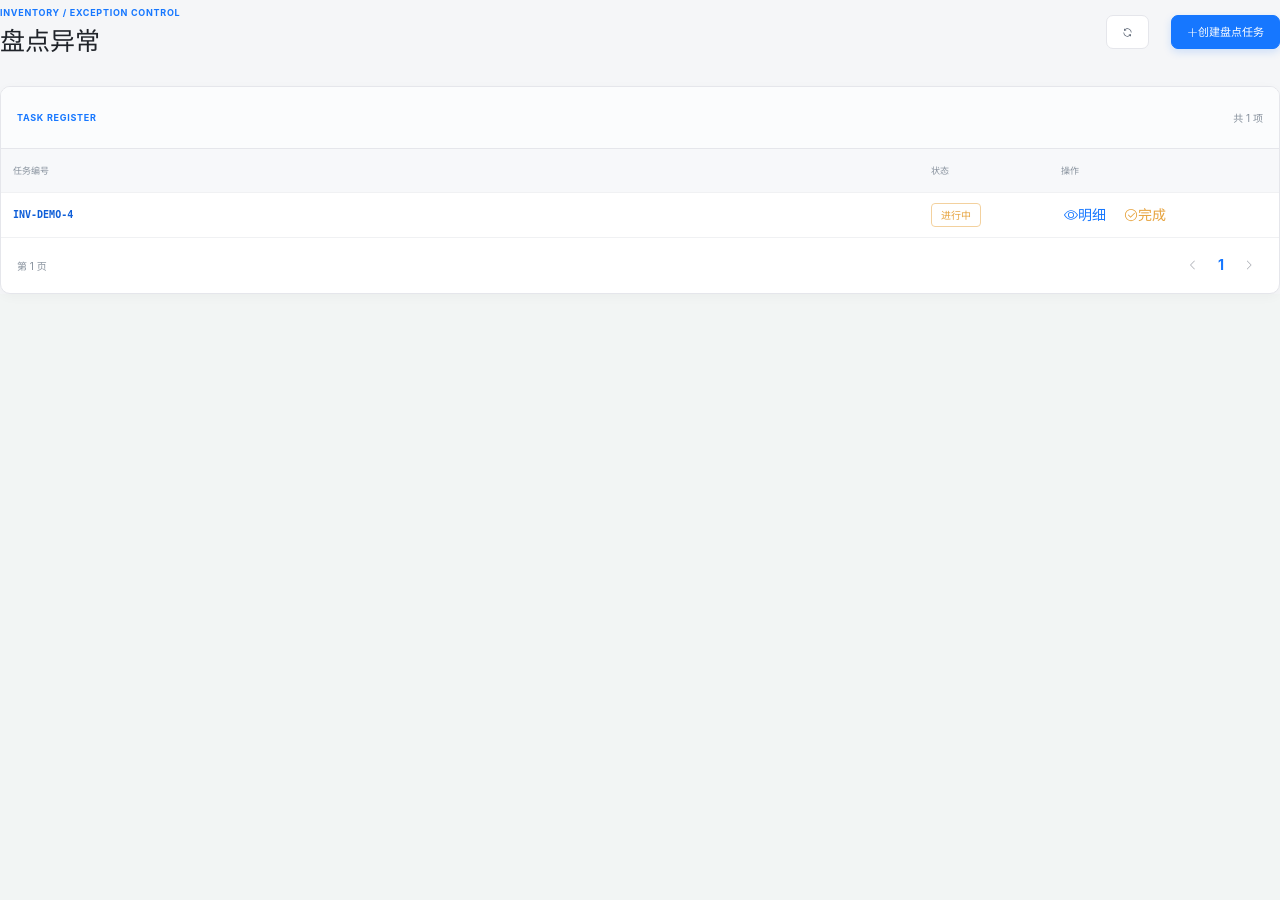
Scenario: InventoryView › opens the item check form from a selected task
Click the button titled "查看盘点明细" at point(1085, 215), box [1061,205,1109,225]
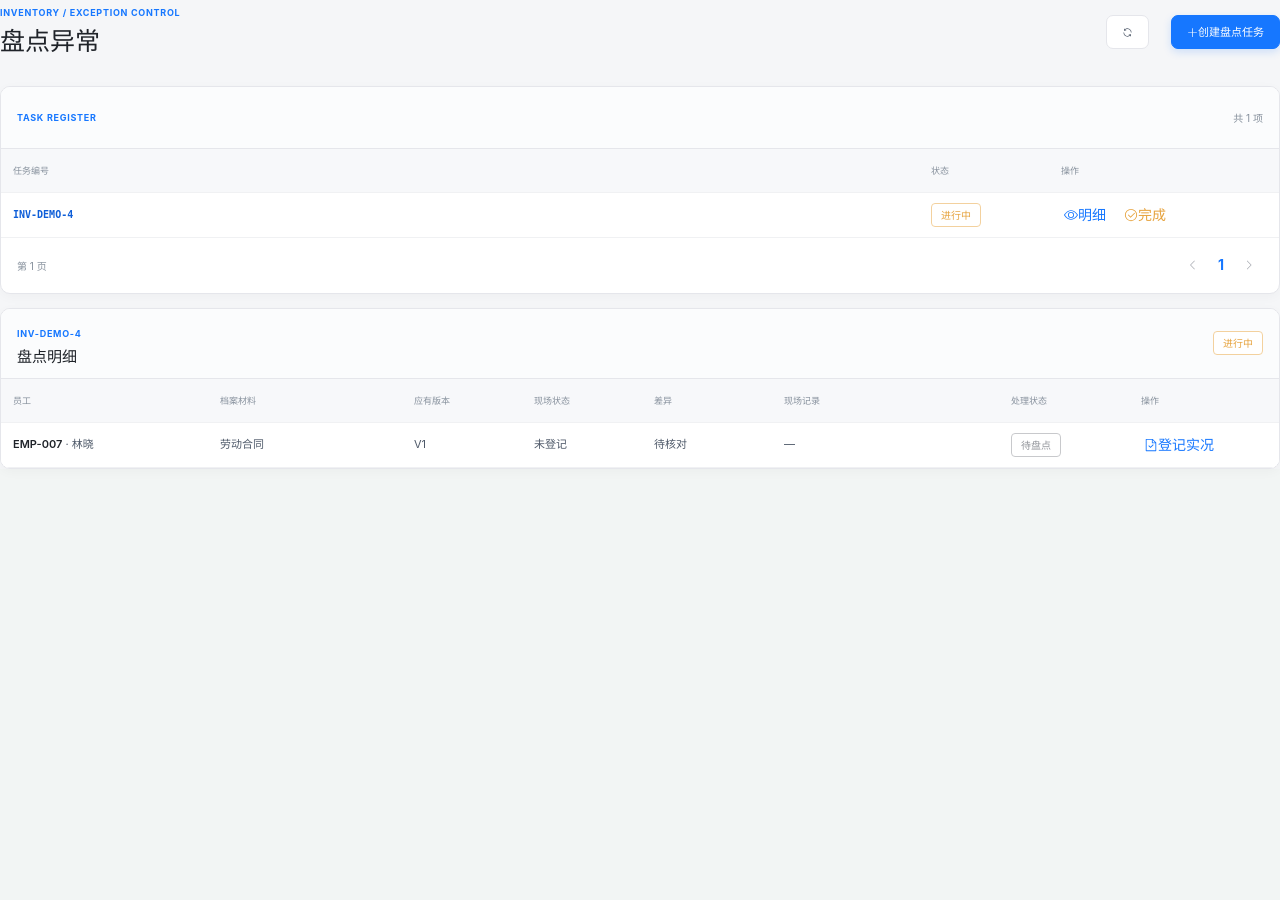
Check: the text "劳动合同" is shown, box [220,437,264,451]
Check: the text "V1" is shown, box [414,437,426,451]
Click the button titled "登记现场状态" at point(1179, 445), box [1141,435,1217,455]
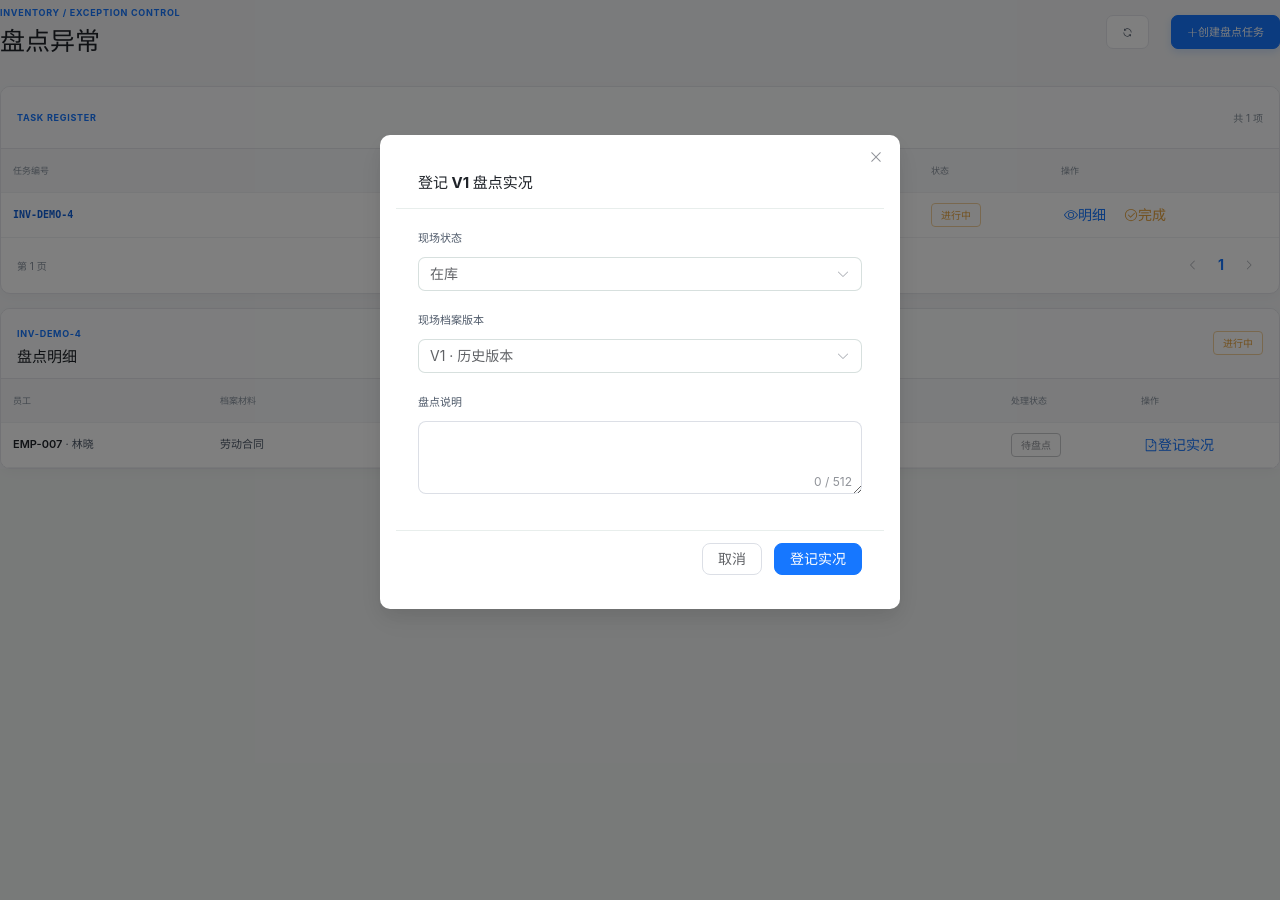
Check: the text "登记 V1 盘点实况" is shown, box [418,173,533,192]
Click the element showing "V1 · 历史版本" at point(640, 356), box [418,339,862,373]
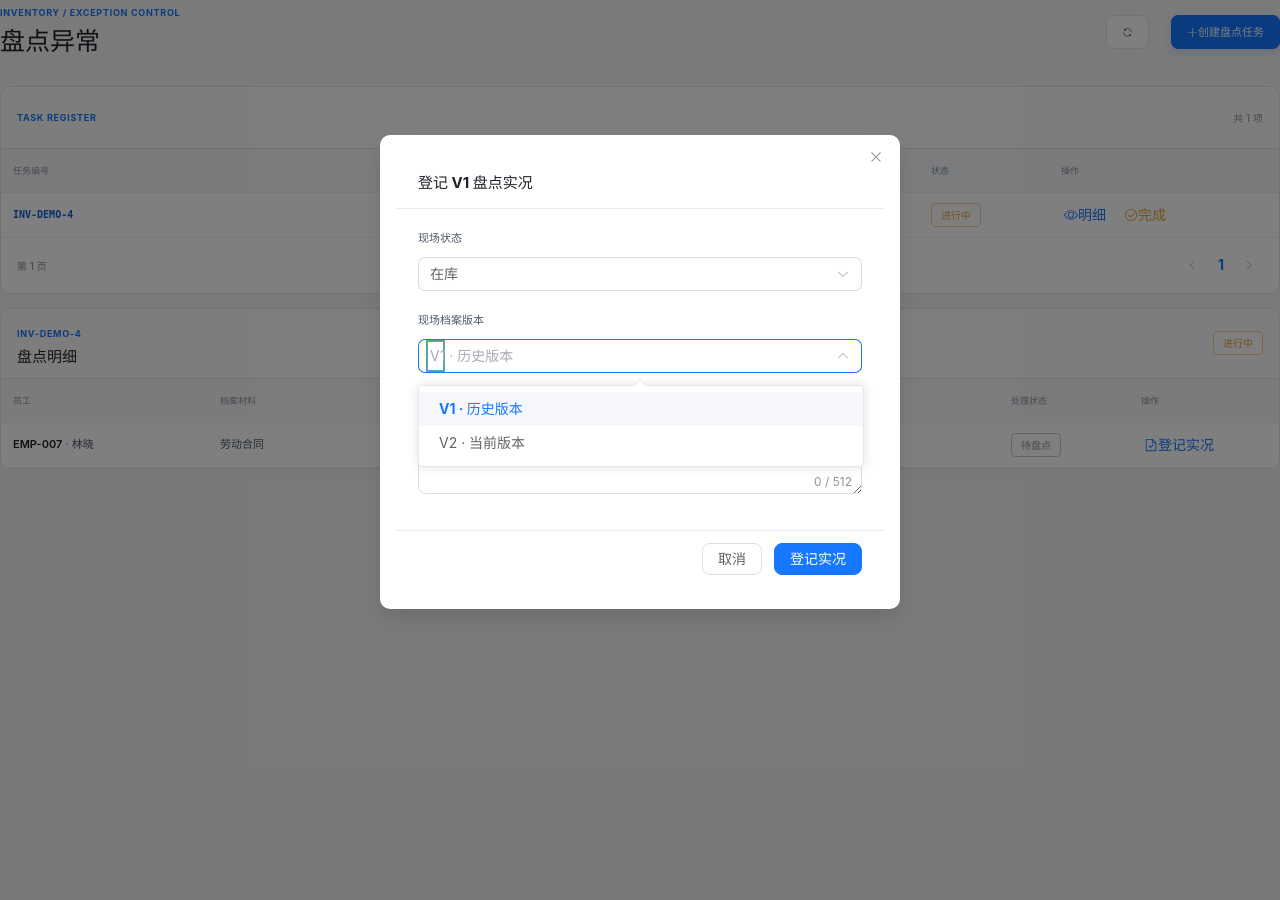
Check: the text "V2 · 当前版本" is shown, box [439,434,525,451]
